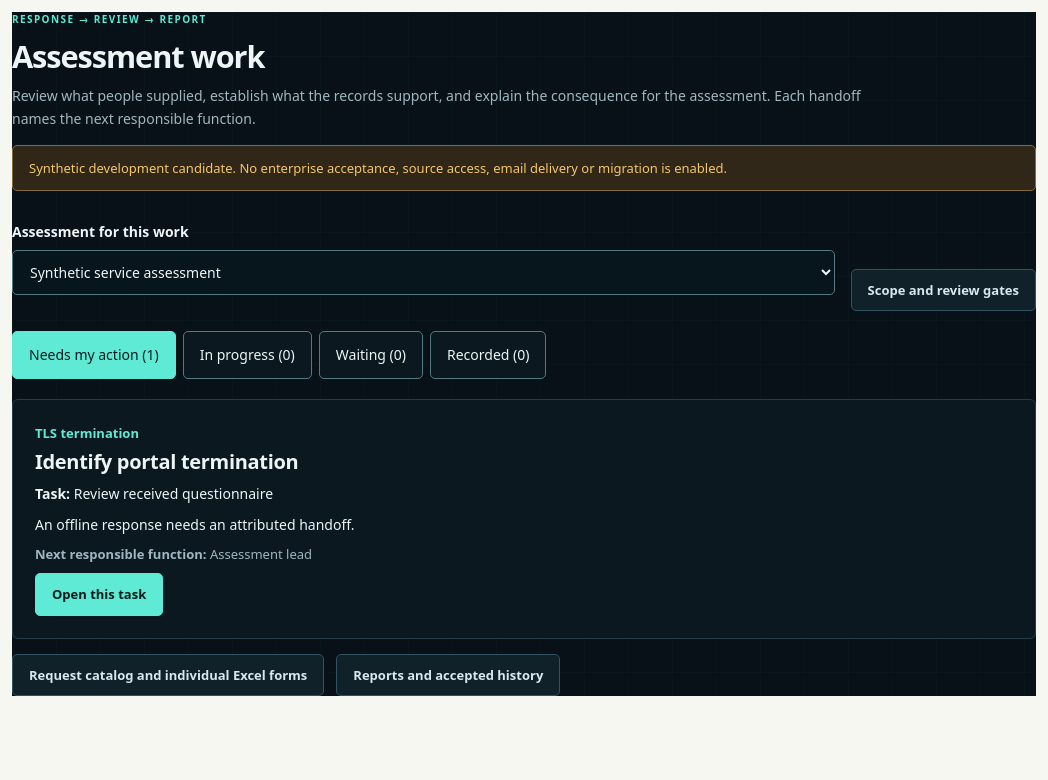
one coordinator and reviewer assessment-work surface › distinguishes an empty waiting lane from a completed assessment
Expected: the heading "Identify portal termination" is shown, x1=35 y1=448 x2=298 y2=475
Click the button "Waiting (0)" at (371, 355), box x1=319 y1=331 x2=423 y2=379
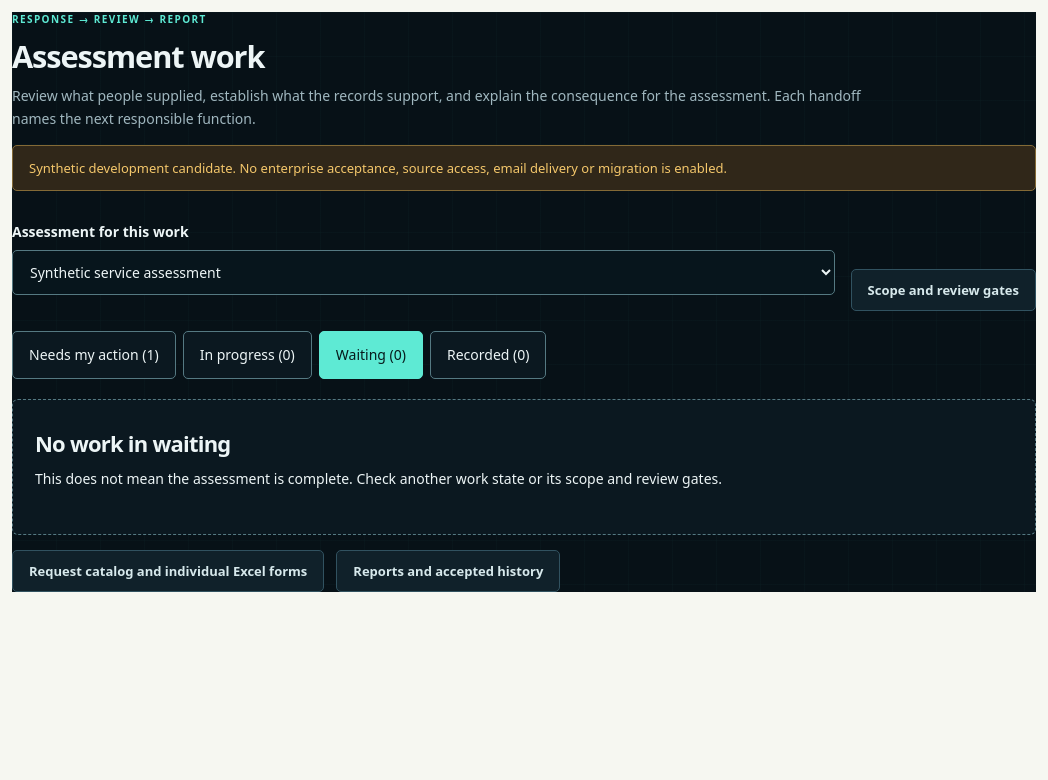
Now the heading "No work in waiting" is shown, box x1=35 y1=428 x2=230 y2=458
Now the text "This does not mean the assessment is complete" is shown, box x1=35 y1=470 x2=722 y2=488
